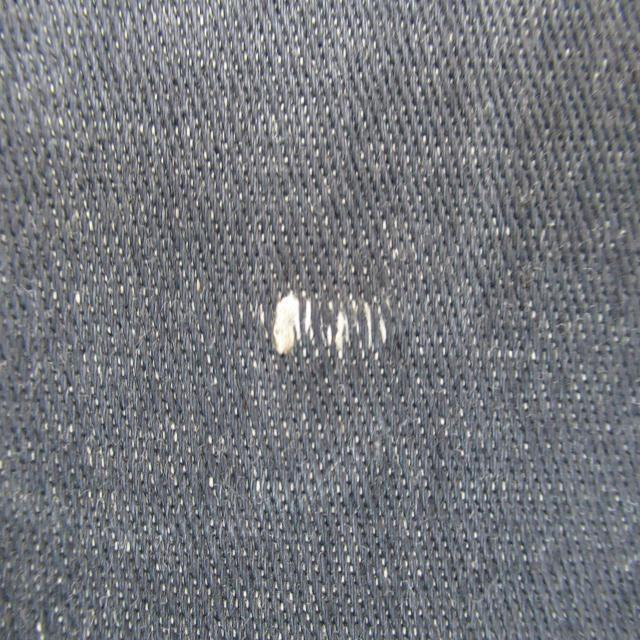pulled_or_thick_thread: (275, 290, 389, 358)
